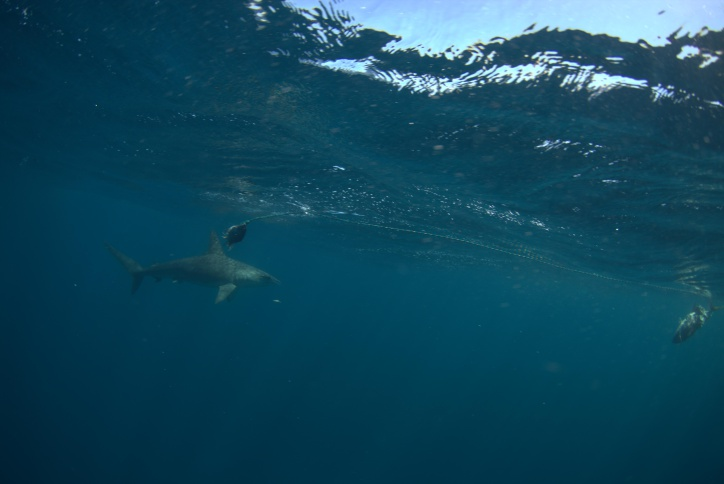Hammer: (207, 91, 673, 284), (85, 226, 290, 316)
